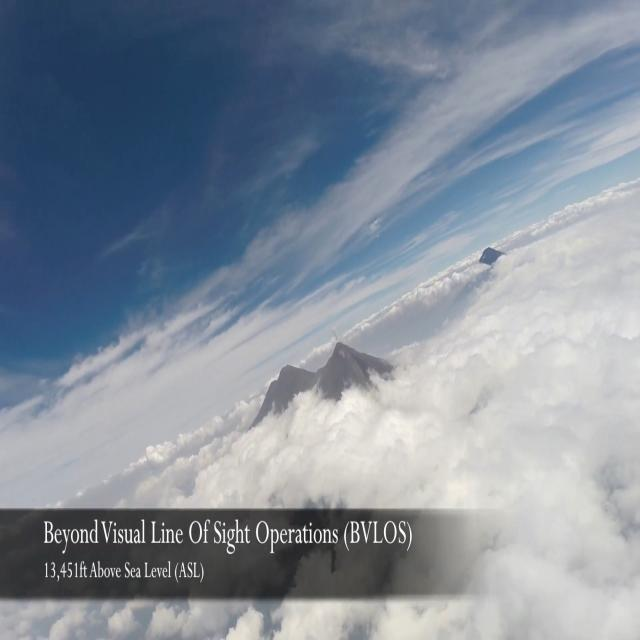Plume: (330, 324, 339, 343)
Summit: (330, 340, 355, 354)
